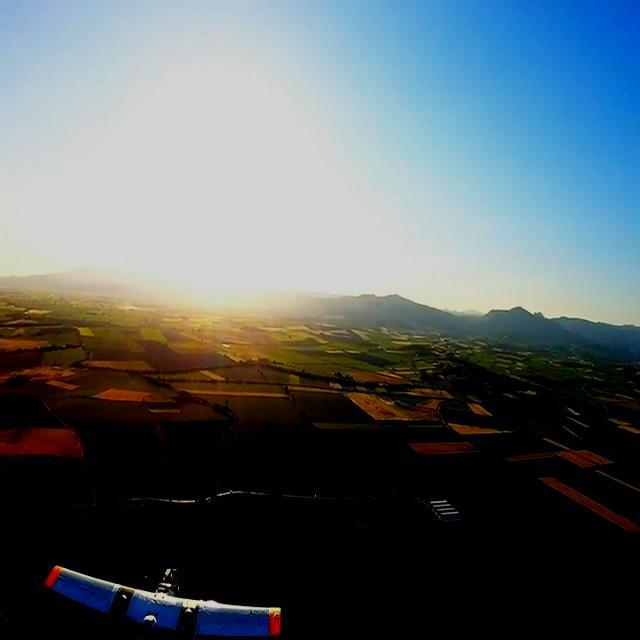iha: (32, 578, 289, 608)
